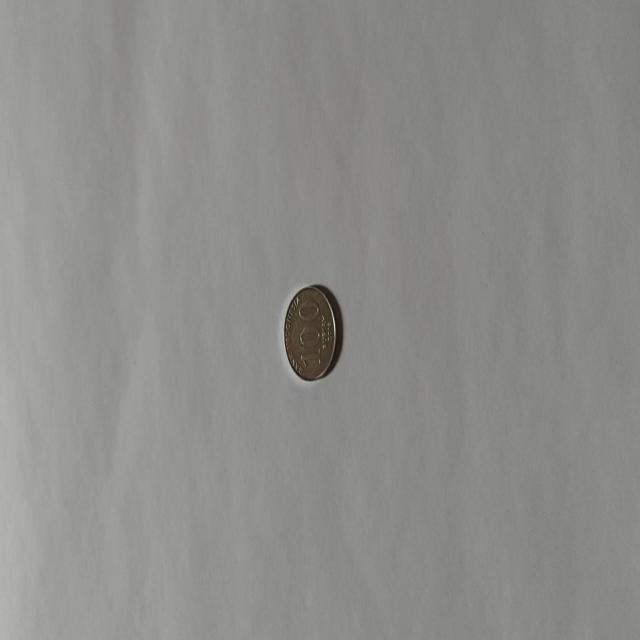seratus rupiah: (282, 284, 336, 382)
